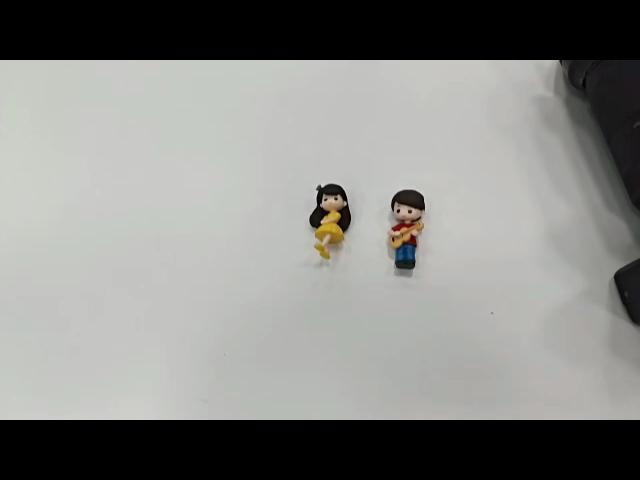man: (384, 185, 430, 277)
woman: (306, 180, 356, 266)
